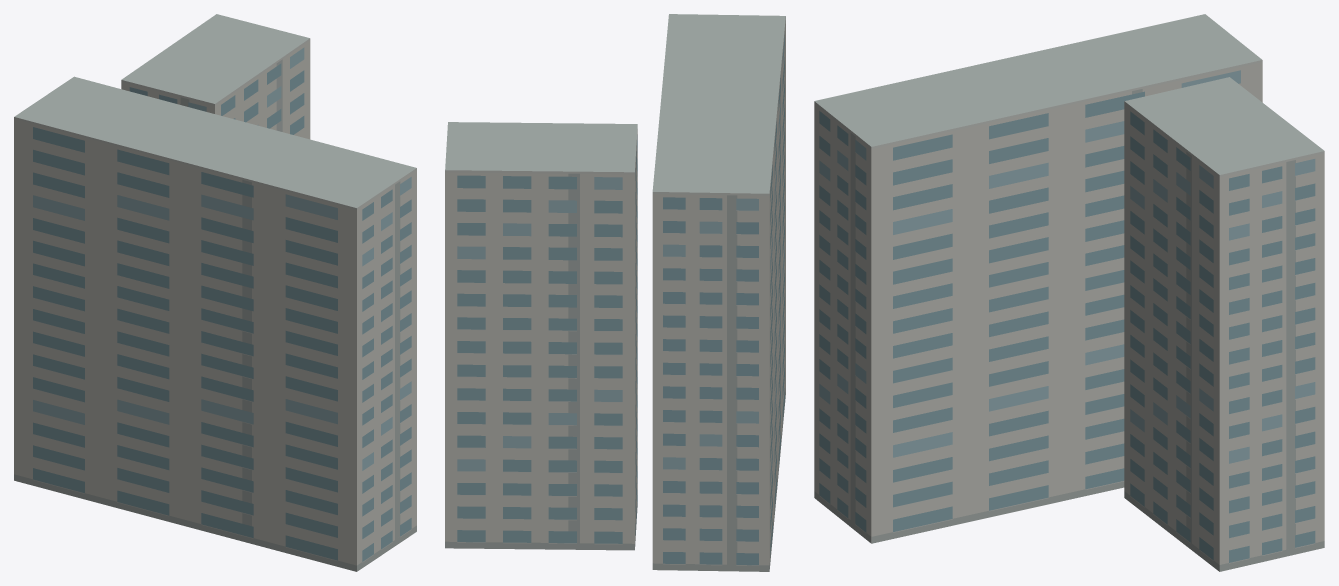
File: residential-f51d8b03-0276-4562-86a5-dc66694b695e.glb
3 views of the same model, side by side, from view 1: azimuth 30°, elevation 25°; view 2: azimuth 150°, elevation 25°; view 3: azimuth 270°, elevation 25° (orthographic). The views are drawn at different scales.
Parts seen in each view (by area): view 1: residential-f51d8b03-0276-4562-86a5-dc66694b695e.tmp; view 2: residential-f51d8b03-0276-4562-86a5-dc66694b695e.tmp; view 3: residential-f51d8b03-0276-4562-86a5-dc66694b695e.tmp.
Part boxes in pixels (x1,y1,x2,y2): residential-f51d8b03-0276-4562-86a5-dc66694b695e.tmp: [14, 14, 416, 571]; residential-f51d8b03-0276-4562-86a5-dc66694b695e.tmp: [445, 14, 785, 571]; residential-f51d8b03-0276-4562-86a5-dc66694b695e.tmp: [814, 14, 1324, 571].
Size of the model in its own units: 37.45 by 43 by 50.15.
